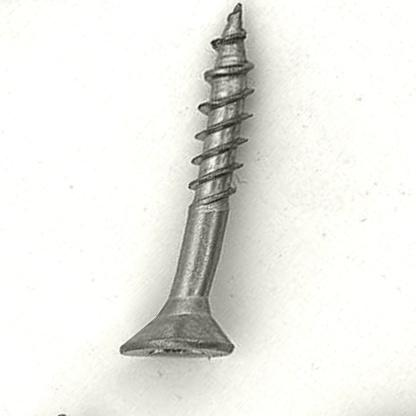metal: (119, 3, 256, 362)
